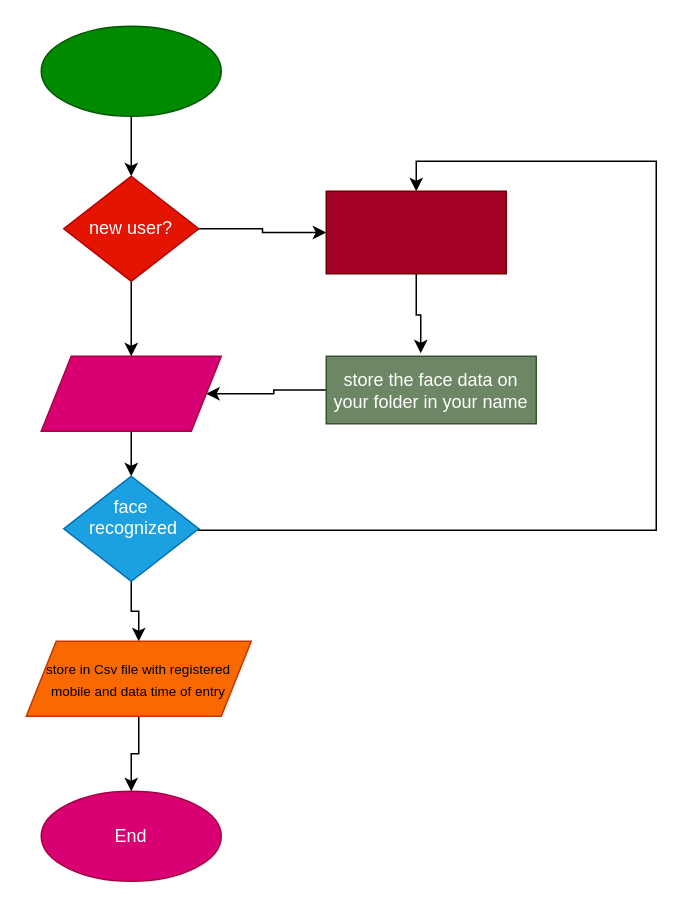
Some shapes in this 695 by 908 pixel diagram are drawn without their labels. The box of each missing label's shape, as (x1, y1, x2, y2) in pixels:
give your photograph: (325, 190, 506, 274)
Recognize face: (40, 355, 221, 431)
Start: (40, 25, 221, 116)
